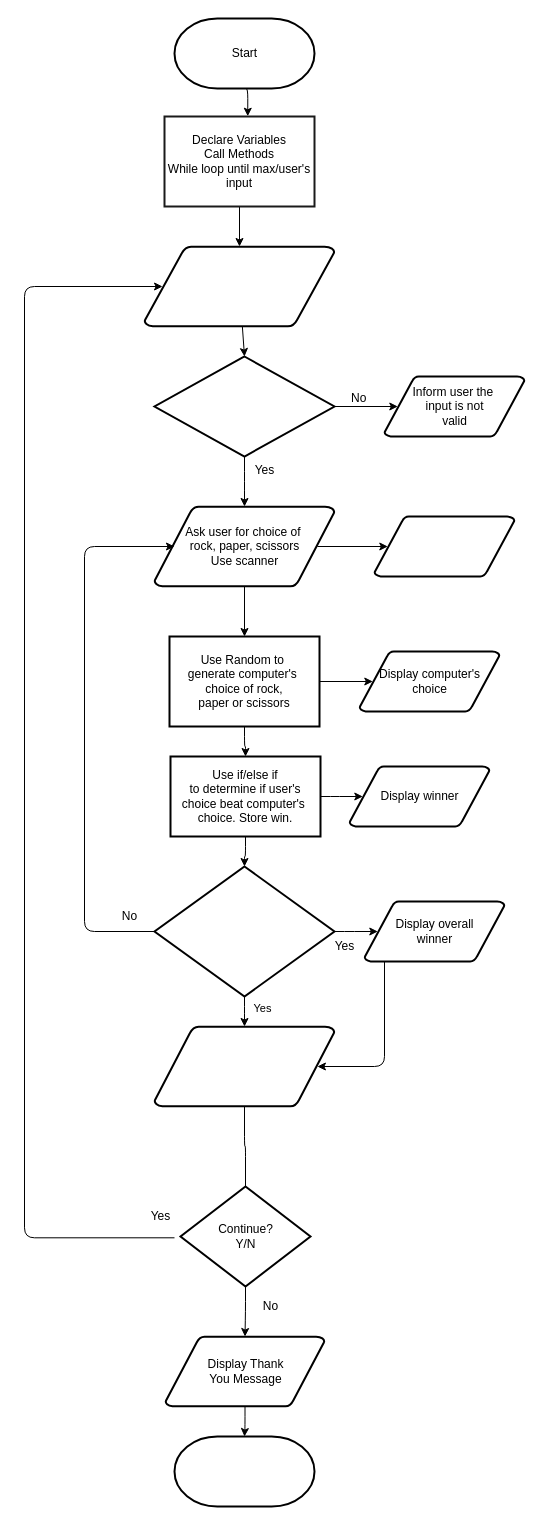
Image size: 543x1524. Some labels were removed from this diagram. The centre of each missing label's shape, as x and y in pixels:
(refer to pre set while condition) is user's input or maximum reached?: [244,931]
Ask the user if he/she wants to play again.: [244,1066]
Display user's choice: [444,546]
End: [244,1471]
Is the number valid?: [244,406]
Use Scanner Ask user how many games he/she wants to play? Between 1 and 10: [239,286]
